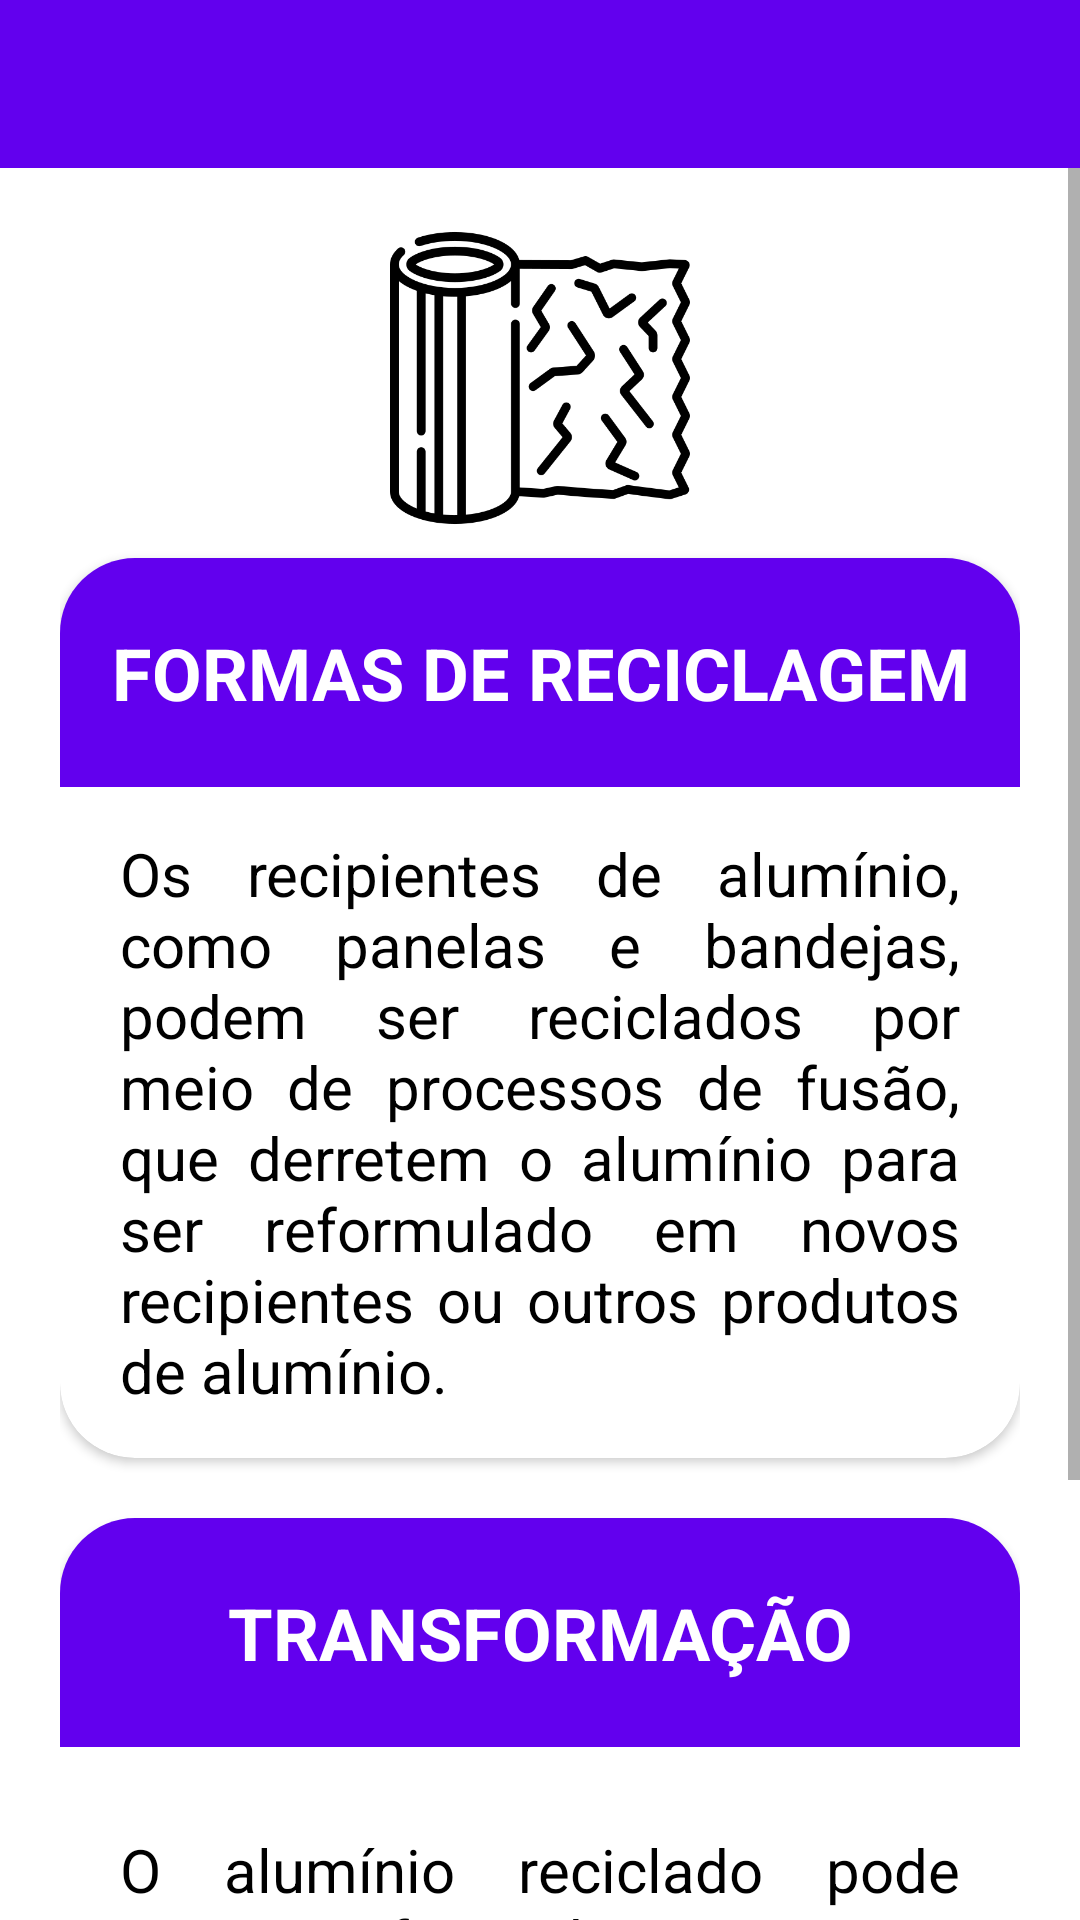

Screen size 1080 × 1920. Icon name, then its box in pixels as bbox=[x1, y1, x2, y2]:
aluminium paper: bbox=[390, 232, 690, 524]
